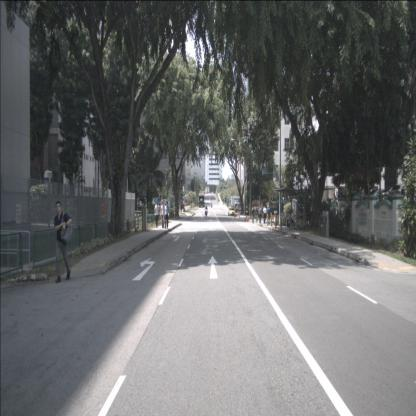cone: (246, 215, 248, 222)
